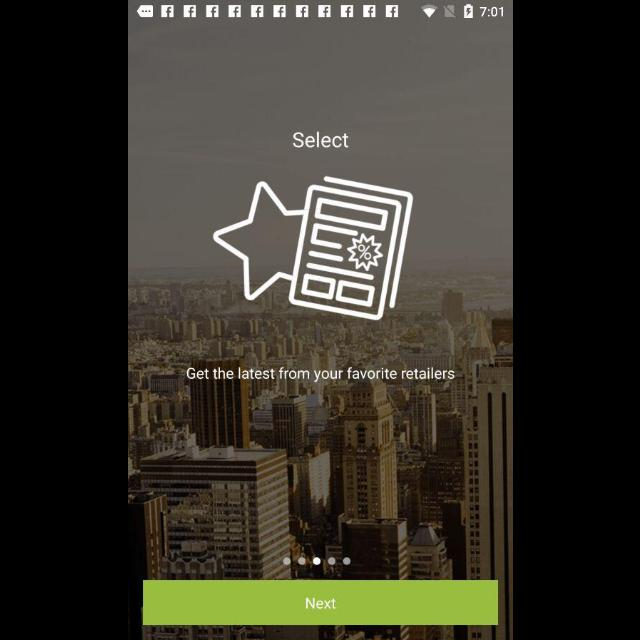backgroundimage: (128, 21, 512, 640)
image: (212, 176, 414, 322)
pageindicator: (282, 556, 351, 566)
text: (186, 368, 454, 382), (292, 132, 348, 150)
textbutton: (142, 580, 498, 626)
uppertaskbar: (128, 2, 512, 20)
